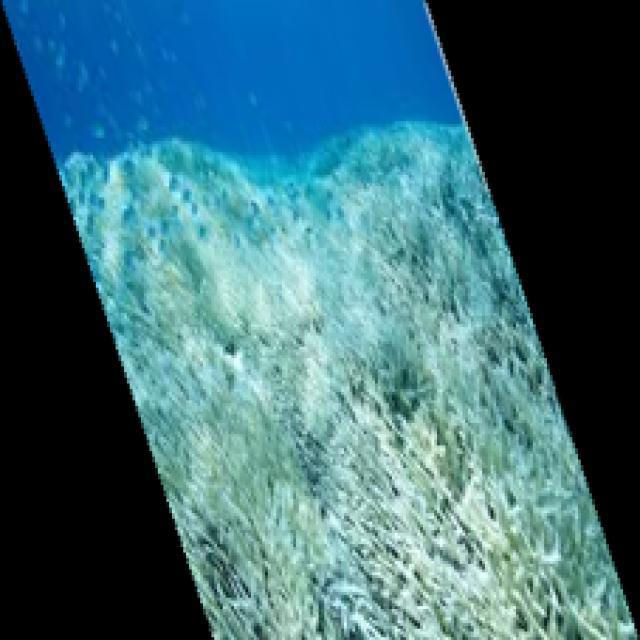Bleached: (57, 123, 640, 640)
